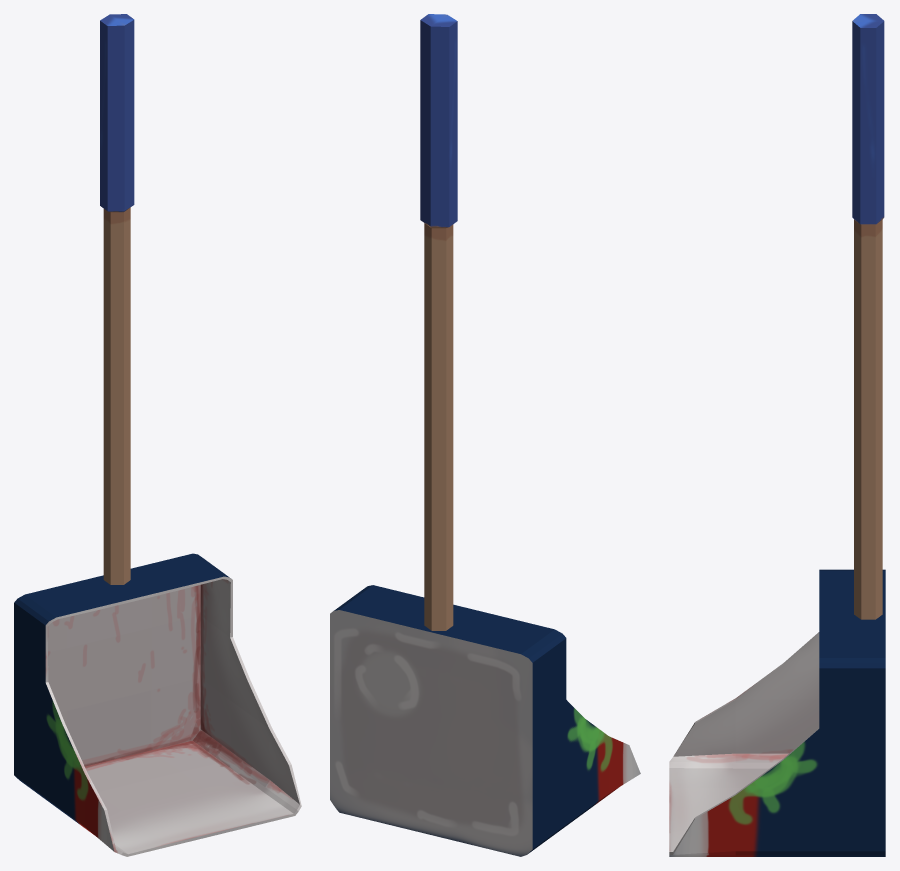
Rendered from dustpan1.fbx.
The picture shows the model from 3 angles, left to right: view 1: azimuth 30°, elevation 25°; view 2: azimuth 150°, elevation 25°; view 3: azimuth 270°, elevation 25°; orthographic projection. The views are drawn at different scales.
Parts seen in each view (by area): view 1: dust pan -1, dust pan-handle; view 2: dust pan -1, dust pan-handle; view 3: dust pan -1, dust pan-handle.
Part boxes in pixels (left/top/right/bottom): dust pan -1: left=14, top=553, right=301, bottom=856; dust pan-handle: left=100, top=14, right=134, bottom=584; dust pan -1: left=330, top=585, right=640, bottom=856; dust pan-handle: left=420, top=14, right=457, bottom=630; dust pan -1: left=669, top=569, right=885, bottom=856; dust pan-handle: left=852, top=14, right=884, bottom=619.
Bounding box in the file's own units: 92.01 × 350 × 86.78.
